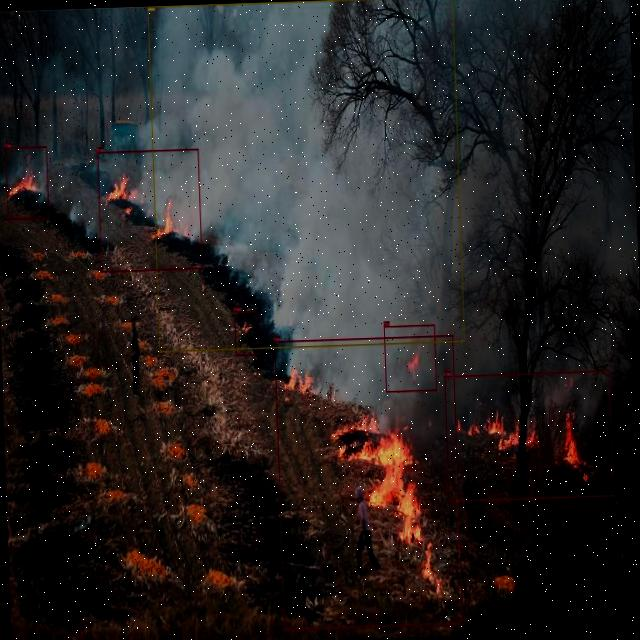fire: (274, 334, 462, 630), (444, 369, 613, 502), (97, 148, 202, 272), (384, 323, 436, 392), (4, 146, 48, 218), (233, 310, 260, 356)
smoke: (147, 0, 464, 351)
